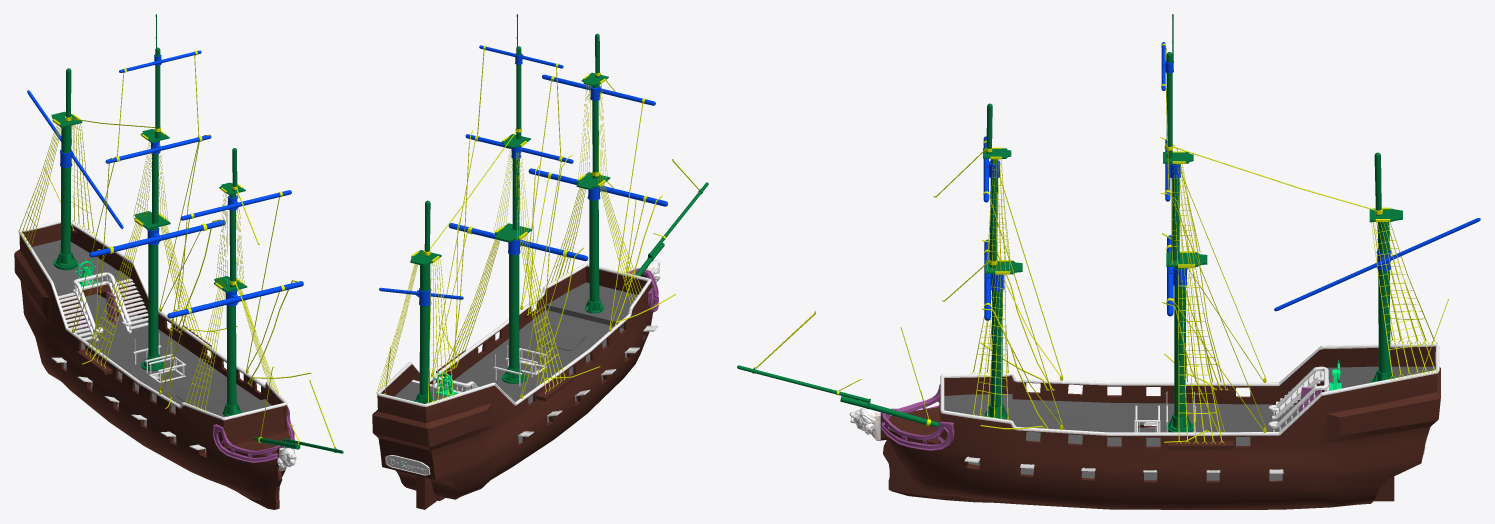
File: de kuyper.fbx
The picture shows the model from 3 angles, left to right: view 1: azimuth 30°, elevation 25°; view 2: azimuth 150°, elevation 25°; view 3: azimuth 270°, elevation 25°; orthographic projection. The views are drawn at different scales.
Visible parts, largest first — view 1: hull3, ropes, masts, main_deck, railings_latches_and_stairs, mast_bars1, helm_deck, head_and_door1, cargo_opening; view 2: hull3, ropes, masts, main_deck, railings_latches_and_stairs, mast_bars1, cargo_opening, helm_deck, head_and_door1; view 3: hull3, ropes, masts, main_deck, railings_latches_and_stairs, mast_bars1, head_and_door1, helm_deck.
Boxes of the visible parts, bbox=[...] form: hull3: bbox=[14, 223, 291, 509]; ropes: bbox=[18, 51, 335, 448]; masts: bbox=[51, 14, 343, 453]; main_deck: bbox=[75, 294, 271, 417]; railings_latches_and_stairs: bbox=[18, 220, 293, 450]; mast_bars1: bbox=[27, 50, 303, 318]; helm_deck: bbox=[32, 240, 128, 296]; head_and_door1: bbox=[78, 291, 294, 462]; cargo_opening: bbox=[177, 389, 224, 406]; hull3: bbox=[372, 266, 654, 509]; ropes: bbox=[376, 45, 700, 405]; masts: bbox=[410, 14, 708, 403]; main_deck: bbox=[453, 282, 637, 403]; railings_latches_and_stairs: bbox=[376, 263, 657, 475]; mast_bars1: bbox=[379, 45, 667, 306]; cargo_opening: bbox=[539, 329, 587, 350]; helm_deck: bbox=[395, 381, 447, 401]; head_and_door1: bbox=[445, 268, 658, 387]; hull3: bbox=[880, 346, 1440, 509]; ropes: bbox=[753, 43, 1448, 443]; masts: bbox=[737, 14, 1402, 432]; main_deck: bbox=[944, 394, 1299, 446]; railings_latches_and_stairs: bbox=[940, 343, 1439, 473]; mast_bars1: bbox=[983, 42, 1480, 320]; head_and_door1: bbox=[881, 384, 1320, 450]; helm_deck: bbox=[1327, 366, 1435, 388].
Size of the model in its own units: 11.76 by 30.59 by 41.66.
